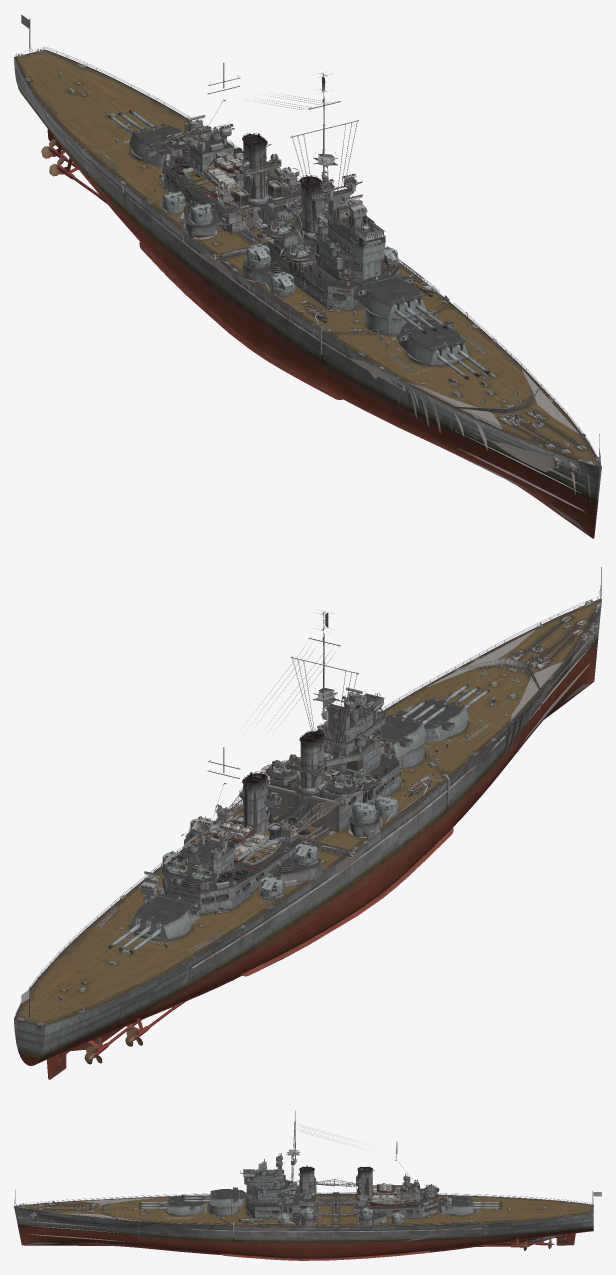
Rendered from hms_lion_war_thunder_sky_odyssey-maximum-compressed.glb.
3 views of the same model, one above another, from view 1: azimuth 30°, elevation 25°; view 2: azimuth 150°, elevation 25°; view 3: azimuth 270°, elevation 25° (orthographic). The views are drawn at different scales.
Visible parts, largest first — view 1: Object_10, Object_63, Object_69, Object_82, Object_98, Object_84, Object_122, Object_50, Object_94, Object_54, Object_52, Object_48 (+11 smaller); view 2: Object_10, Object_63, Object_69, Object_82, Object_84, Object_122, Object_98, Object_50, Object_54, Object_94, Object_46, Object_49 (+12 smaller); view 3: Object_63, Object_69, Object_10, Object_82, Object_98, Object_94, Object_84, Object_122, Object_51, Object_54, Object_47, Object_52 (+16 smaller).
Part boxes in pixels (x1=…): Object_10: x1=16, y1=51, x2=599, y2=465; Object_63: x1=14, y1=49, x2=601, y2=501; Object_69: x1=19, y1=90, x2=598, y2=538; Object_82: x1=14, y1=50, x2=599, y2=466; Object_98: x1=44, y1=106, x2=587, y2=533; Object_84: x1=16, y1=19, x2=595, y2=458; Object_122: x1=133, y1=123, x2=464, y2=351; Object_50: x1=260, y1=222, x2=359, y2=311; Object_94: x1=108, y1=109, x2=489, y2=379; Object_54: x1=317, y1=186, x2=385, y2=254; Object_52: x1=315, y1=215, x2=384, y2=283; Object_48: x1=239, y1=135, x2=281, y2=205; Object_10: x1=16, y1=600, x2=599, y2=1024; Object_63: x1=14, y1=599, x2=601, y2=1057; Object_69: x1=18, y1=639, x2=598, y2=1079; Object_82: x1=14, y1=599, x2=600, y2=1025; Object_84: x1=16, y1=601, x2=596, y2=1024; Object_122: x1=133, y1=698, x2=464, y2=925; Object_98: x1=134, y1=625, x2=590, y2=995; Object_50: x1=306, y1=740, x2=405, y2=832; Object_54: x1=317, y1=693, x2=385, y2=756; Object_94: x1=108, y1=684, x2=489, y2=953; Object_46: x1=184, y1=822, x2=303, y2=914; Object_49: x1=286, y1=733, x2=329, y2=794; Object_63: x1=14, y1=1193, x2=593, y2=1241; Object_69: x1=18, y1=1186, x2=593, y2=1260; Object_10: x1=17, y1=1194, x2=592, y2=1225; Object_82: x1=15, y1=1167, x2=593, y2=1226; Object_98: x1=26, y1=1173, x2=563, y2=1247; Object_94: x1=139, y1=1194, x2=501, y2=1214; Object_84: x1=26, y1=1130, x2=593, y2=1225; Object_122: x1=168, y1=1187, x2=472, y2=1208; Object_51: x1=246, y1=1192, x2=319, y2=1218; Object_54: x1=243, y1=1166, x2=285, y2=1189; Object_47: x1=354, y1=1195, x2=441, y2=1218; Object_52: x1=246, y1=1179, x2=297, y2=1203.
Size of the model in its own units: 33.85 by 61.6 by 243.
43 materials, 43 textured.
